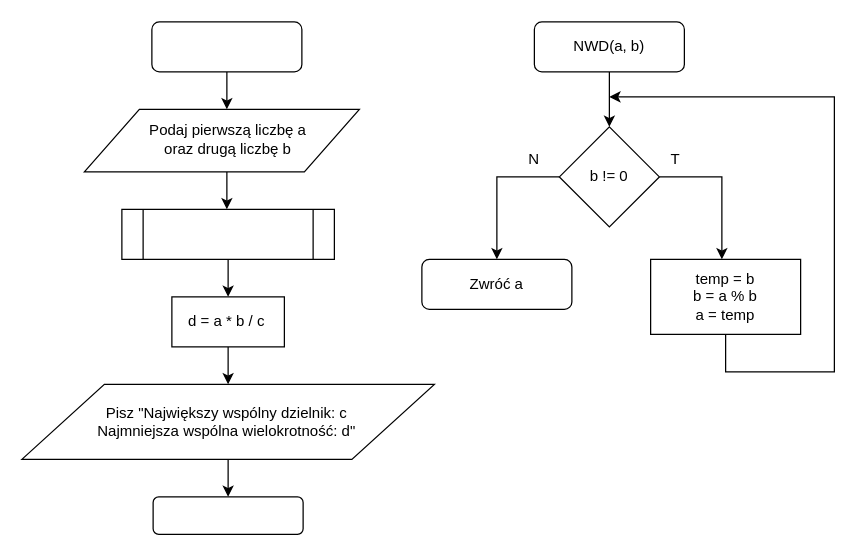
The diagram is 866 pixels wide and 556 high, and some of its shapes have lost their labels. Each missing label, with the centre of its shape:
c = NWD(a, b): the point at 227,233
Start: the point at 226,46
Stop: the point at 227,515
